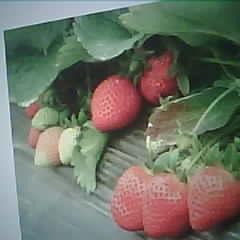straw-ripe: (186, 169, 240, 232), (142, 174, 190, 238), (92, 74, 141, 130)
straw-unripe: (35, 126, 66, 168), (59, 126, 83, 164), (32, 106, 59, 128)
